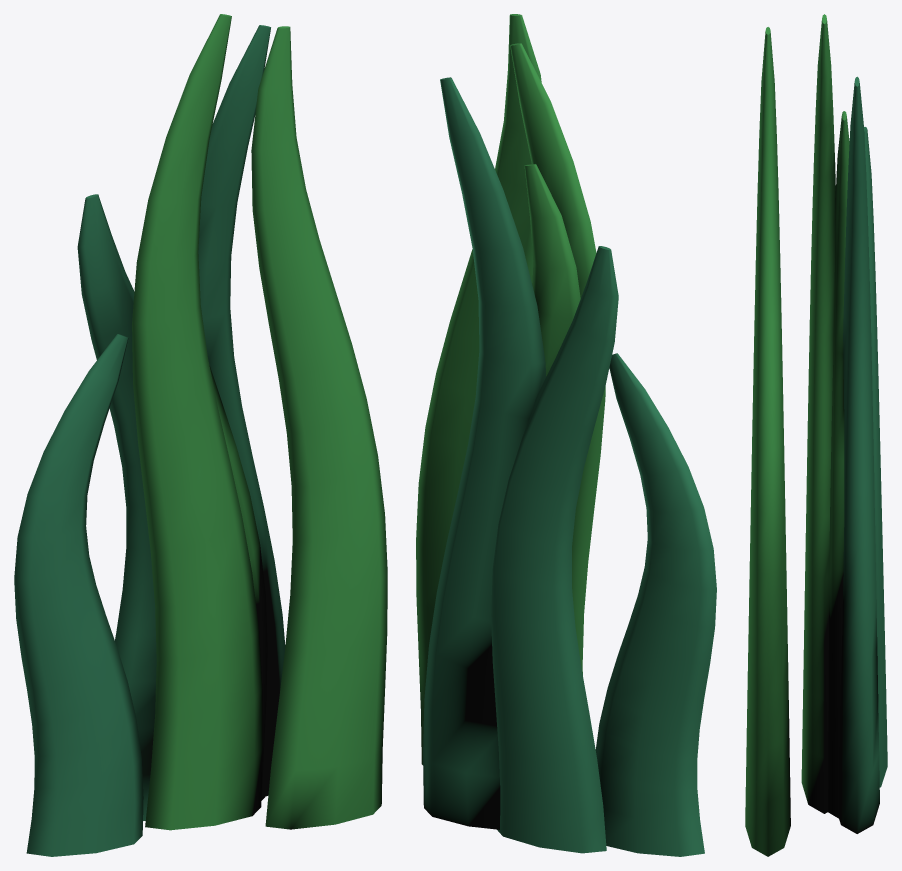
The model's file is seaweed_b.glb.
3 views of the same model, side by side, from view 1: azimuth 30°, elevation 25°; view 2: azimuth 150°, elevation 25°; view 3: azimuth 270°, elevation 25° (orthographic). The views are drawn at different scales.
Parts seen in each view (by area): view 1: seaweed_b_mesh; view 2: seaweed_b_mesh; view 3: seaweed_b_mesh.
Part boxes in pixels (x1,y1,x2,y2): seaweed_b_mesh: [14, 14, 387, 856]; seaweed_b_mesh: [416, 14, 716, 856]; seaweed_b_mesh: [745, 14, 887, 856].
Bounding box in the file's own units: 1.06 × 2.38 × 0.3926.
